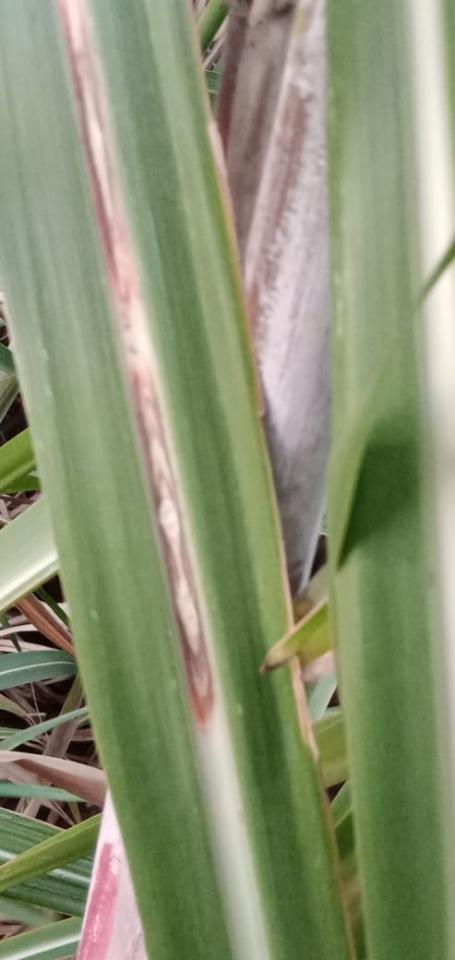RedRot: (131, 364, 215, 731), (59, 0, 131, 311)
